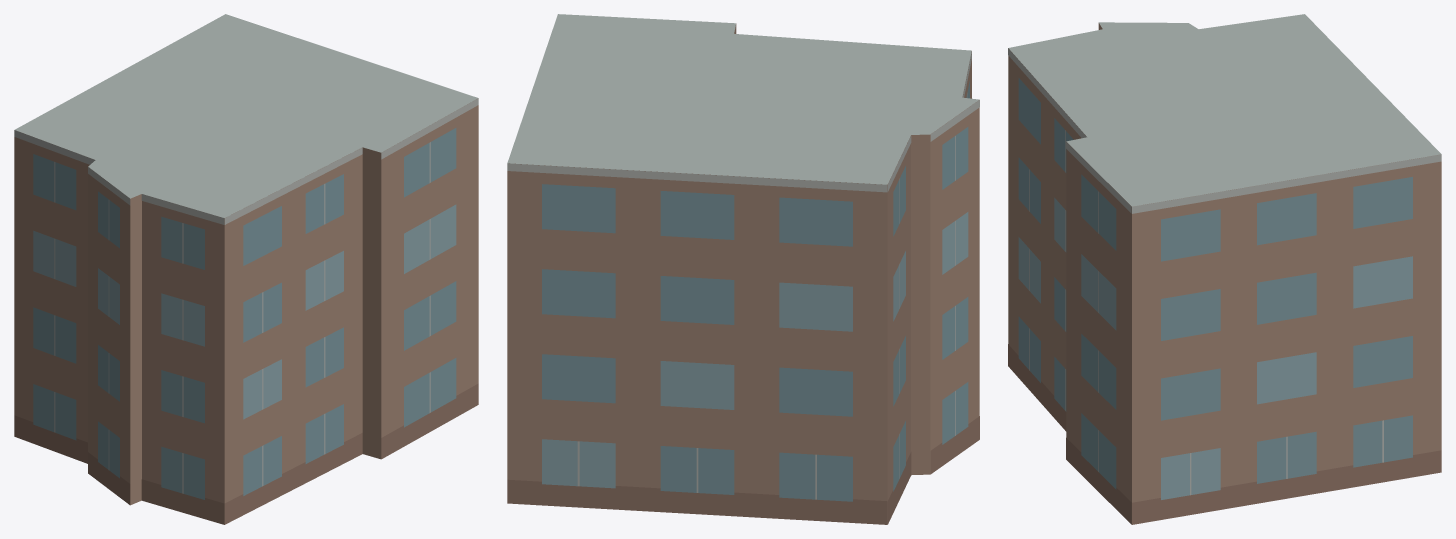
The model's file is survey-upis-32969785.glb.
3 renders of one model, left to right at view 1: azimuth 30°, elevation 25°; view 2: azimuth 150°, elevation 25°; view 3: azimuth 270°, elevation 25°, orthographic. The views are drawn at different scales.
Parts seen in each view (by area): view 1: survey-upis-32969785.tmp; view 2: survey-upis-32969785.tmp; view 3: survey-upis-32969785.tmp.
Boxes of the visible parts, x1,y1,x2,y2 form: survey-upis-32969785.tmp: [14, 14, 478, 524]; survey-upis-32969785.tmp: [507, 14, 979, 524]; survey-upis-32969785.tmp: [1008, 14, 1441, 524].
Bounding box in the file's own units: 14.04 × 10.8 × 13.35.
